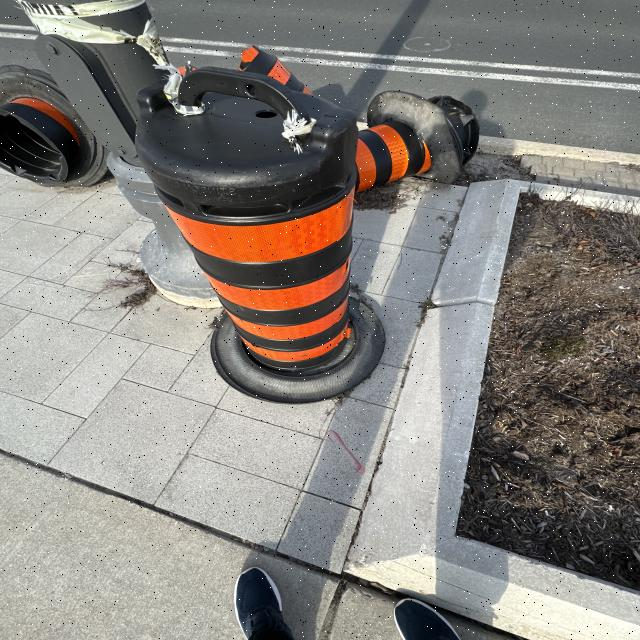Teraffic Barrel: (136, 68, 385, 402), (241, 46, 479, 192), (0, 65, 107, 186), (239, 45, 311, 94)
